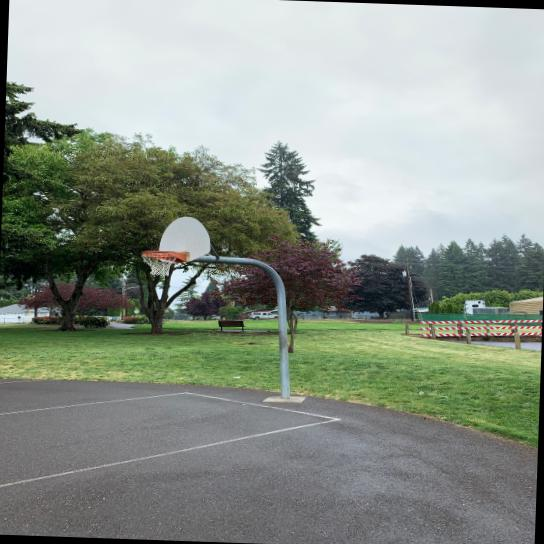basketball-hoop: (139, 250, 178, 278)
